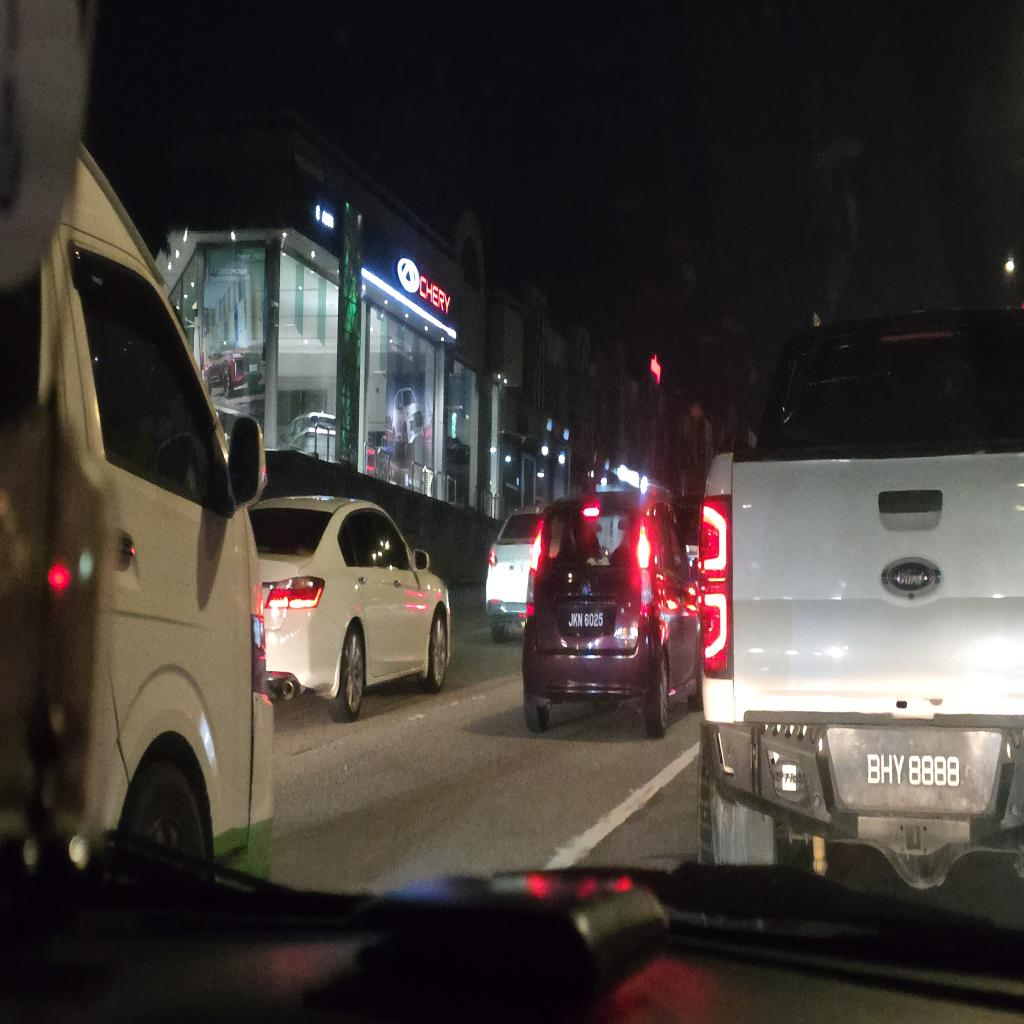car: (699, 300, 1024, 890), (523, 492, 701, 737)
car plate: (828, 727, 1002, 814), (558, 604, 615, 636)
